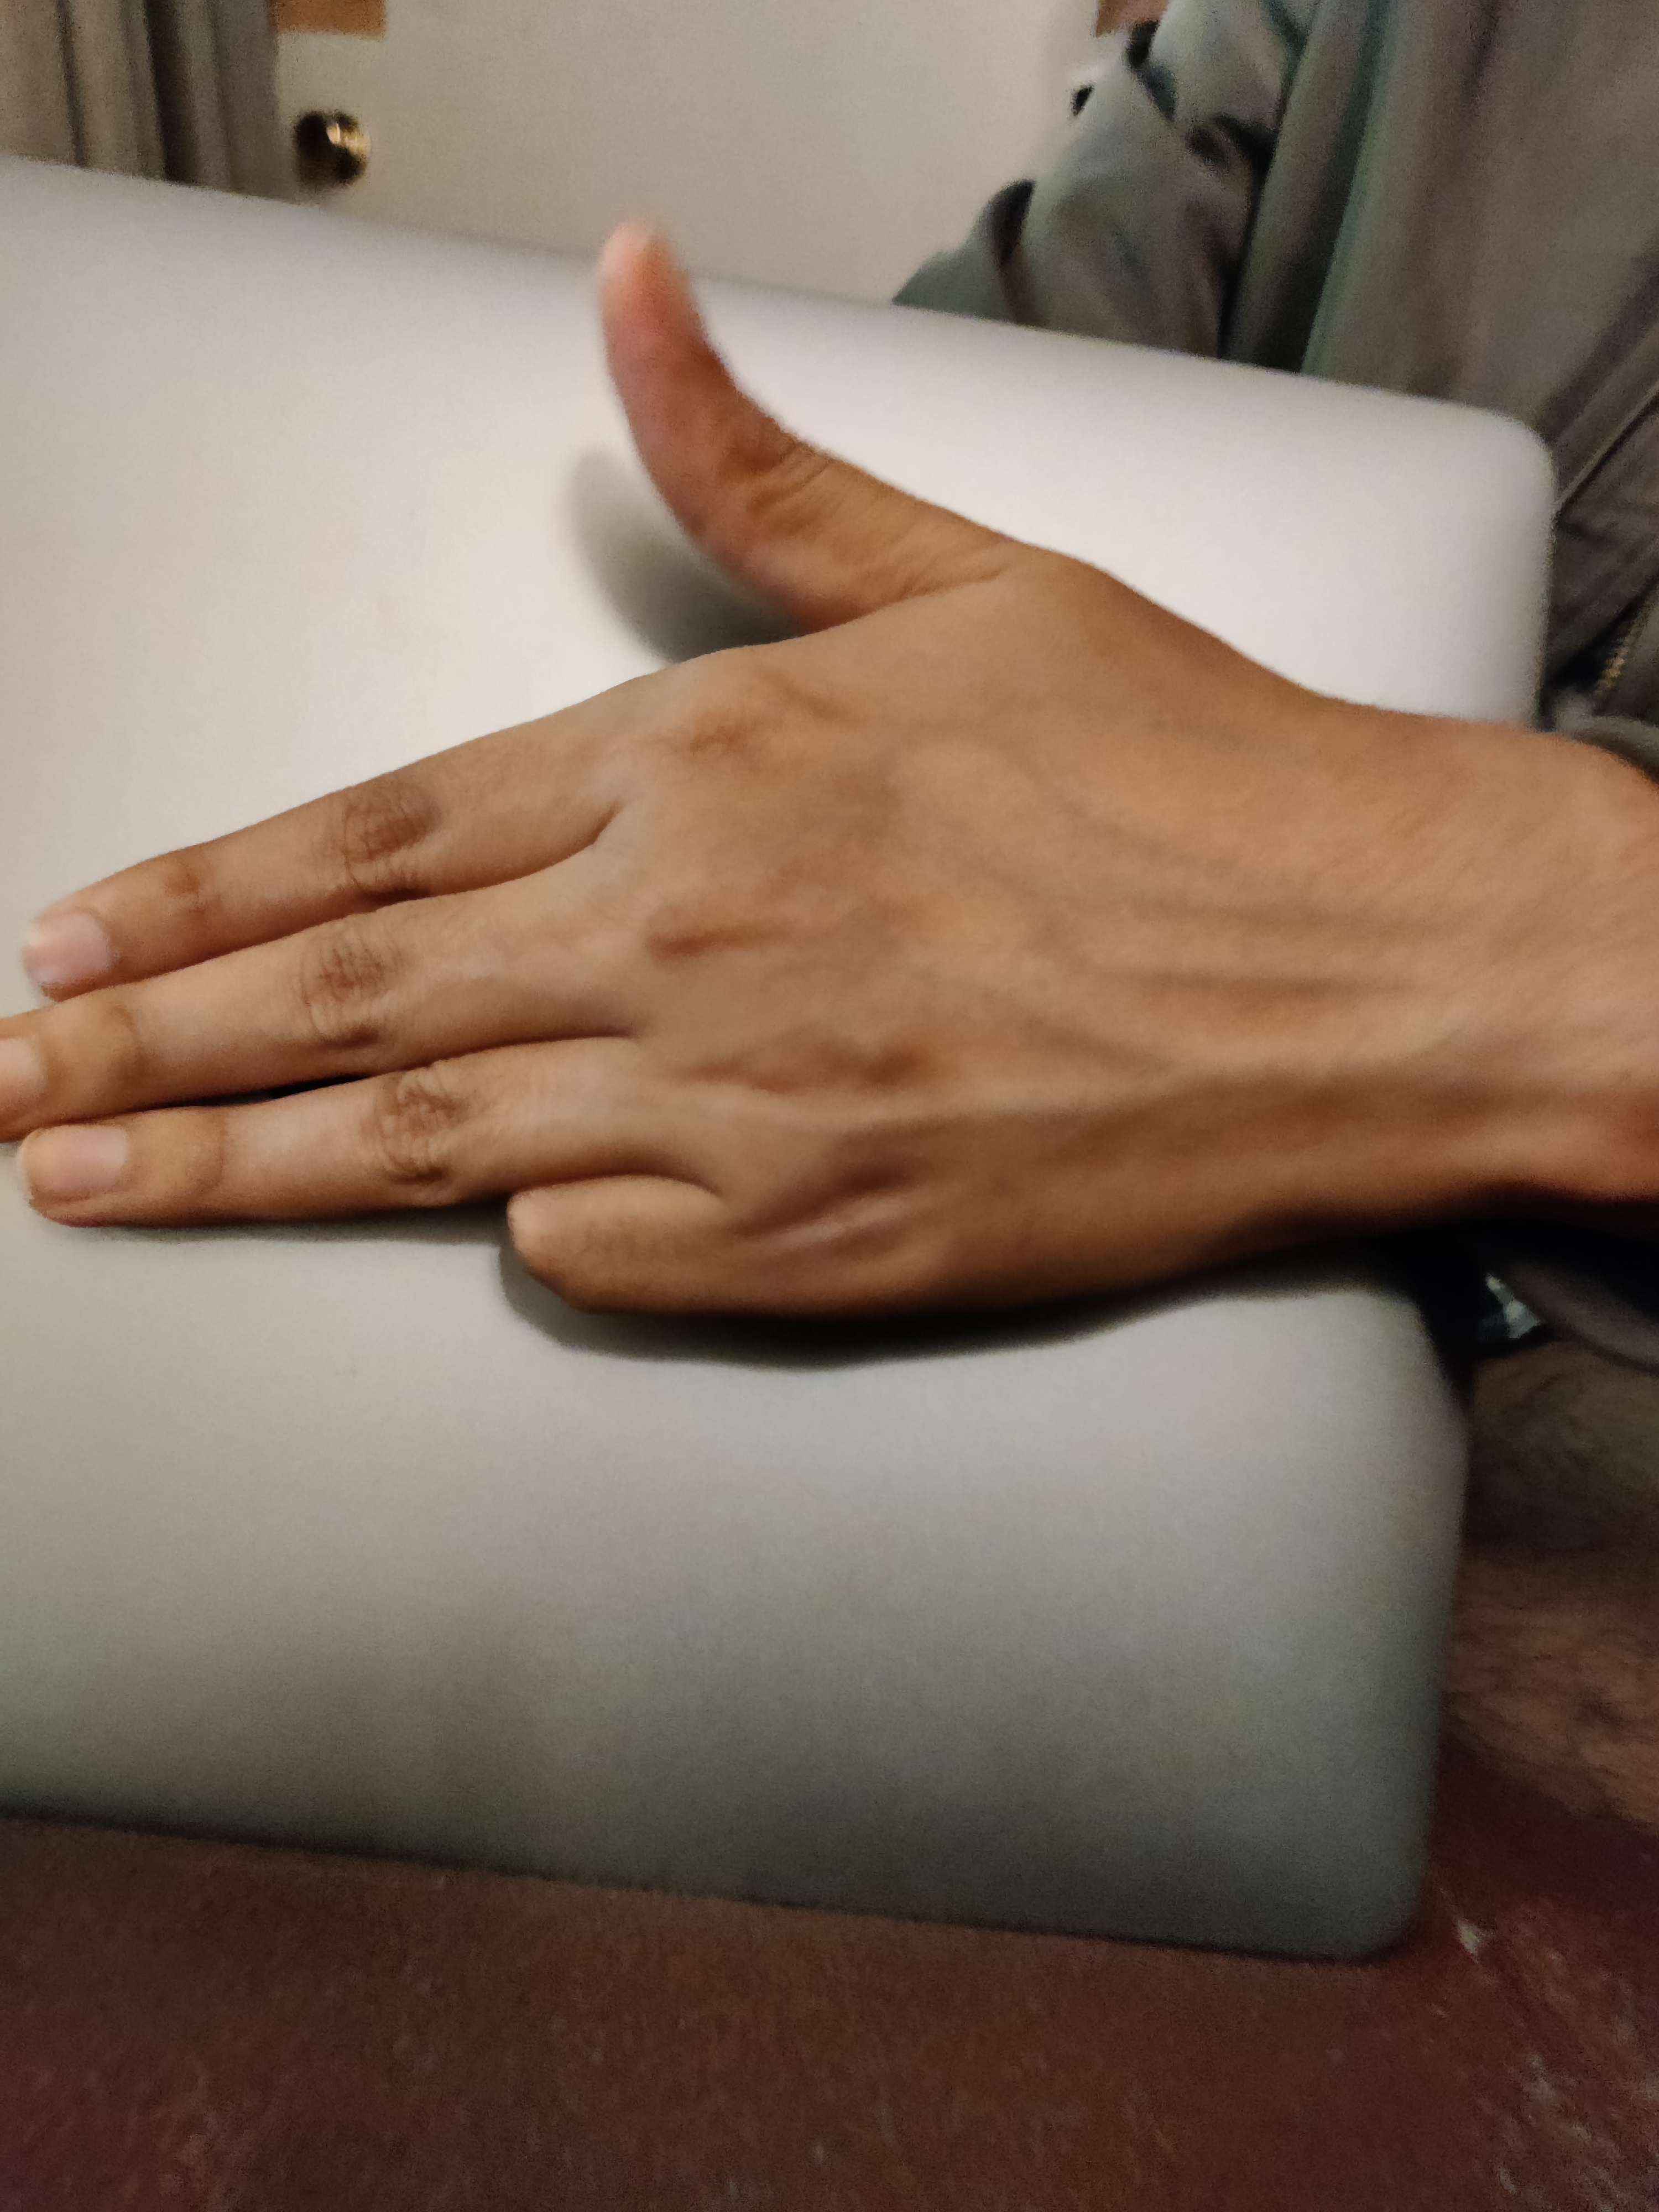right: (23, 240, 1600, 1583)
